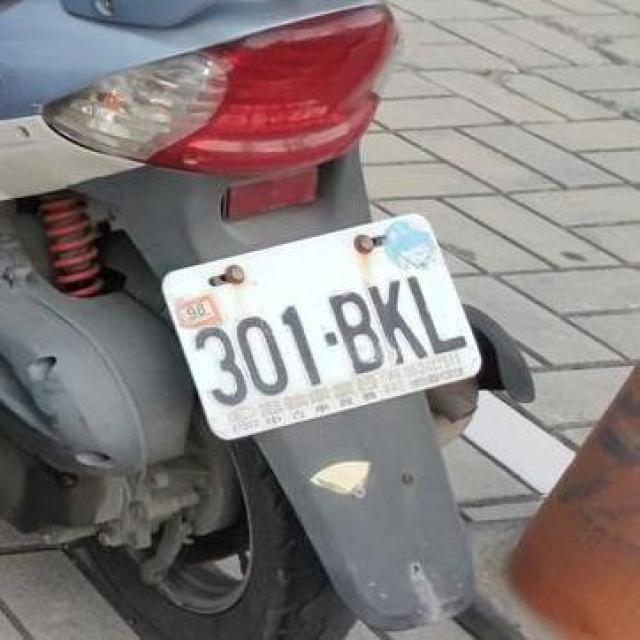W: (149, 200, 486, 449)
